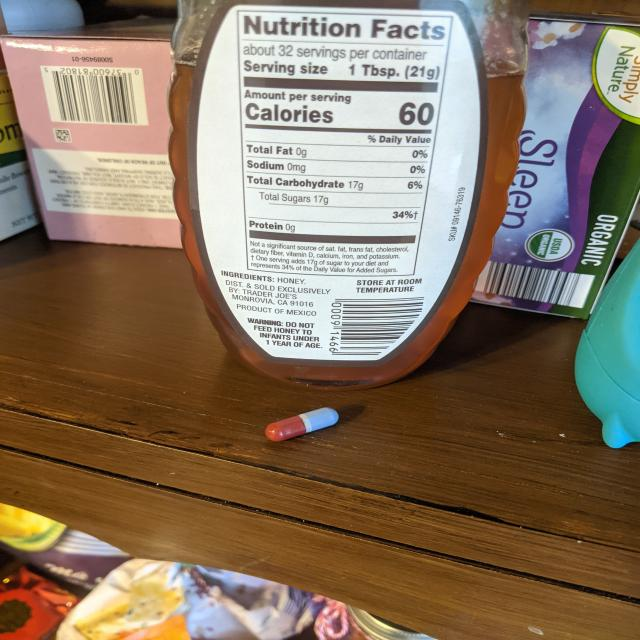non-organic waste: (264, 406, 340, 443)
